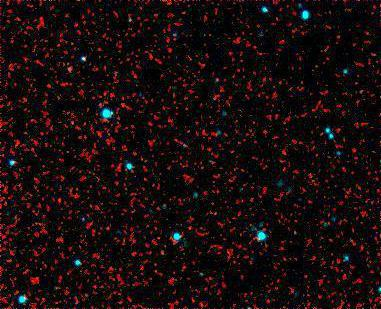star: (45, 184, 75, 214)
